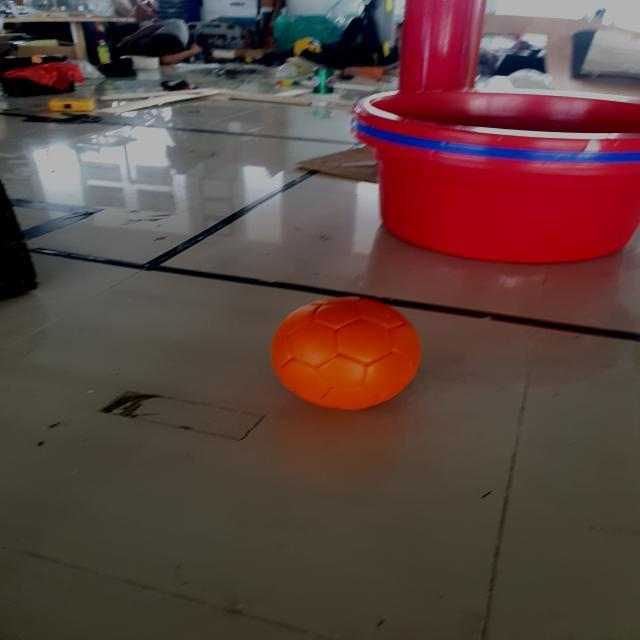bola: (261, 289, 429, 414)
